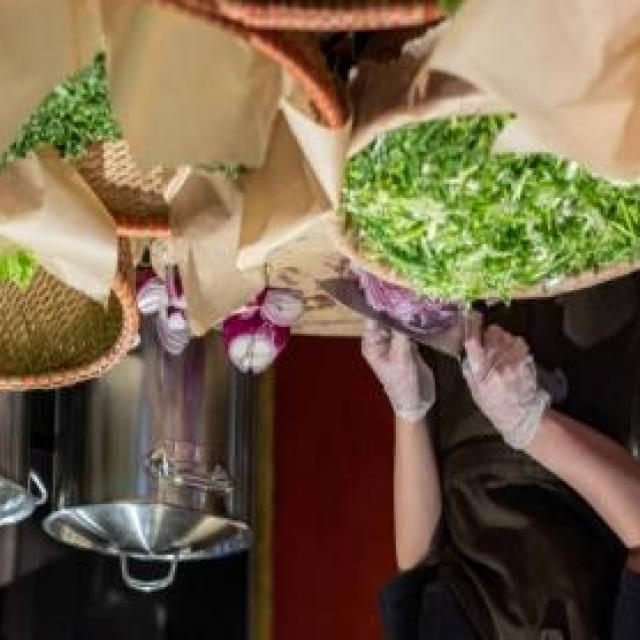knife: (300, 282, 587, 414)
